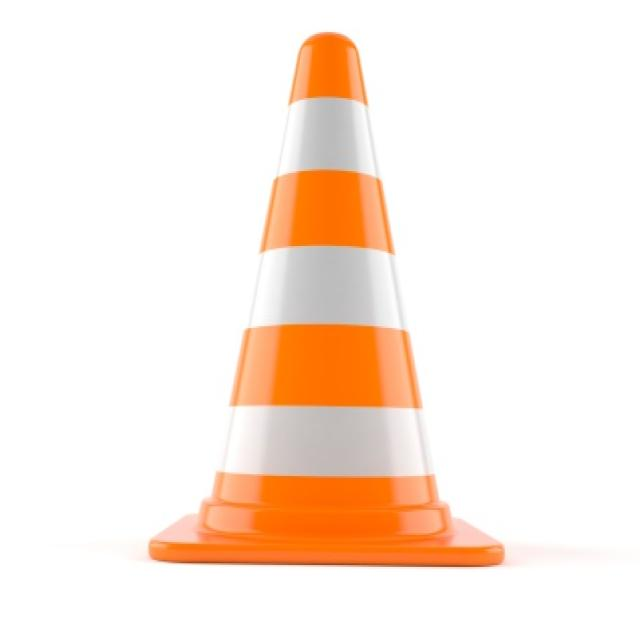cone: (148, 32, 504, 565)
